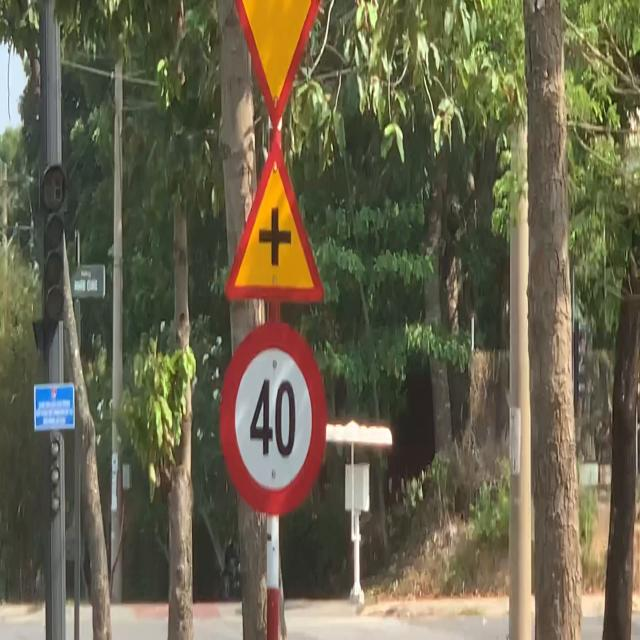Duong giao nhau: (218, 128, 328, 307)
Toc do toi da: (224, 321, 337, 518)
